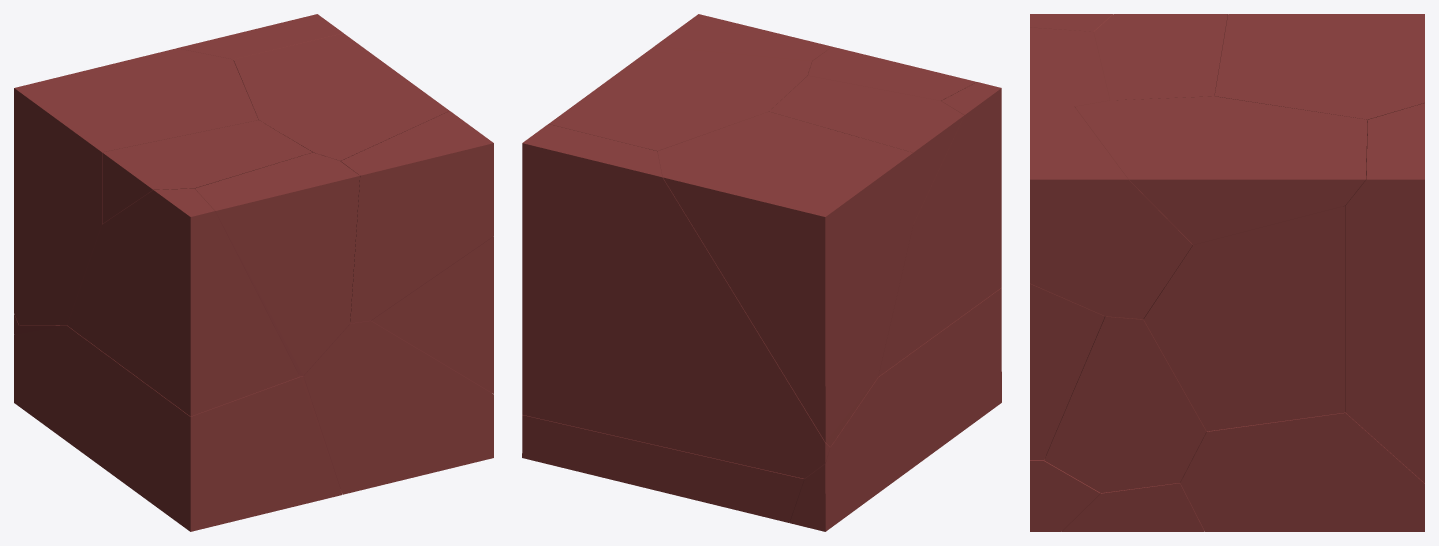
The model's file is cube_broken2.glb.
The picture shows the model from 3 angles, left to right: view 1: azimuth 30°, elevation 25°; view 2: azimuth 150°, elevation 25°; view 3: azimuth 270°, elevation 25°; orthographic projection. The views are drawn at different scales.
Parts seen in each view (by area): view 1: Cube_Bricks_cell.010, Cube_Bricks_cell.004, Cube_Bricks_cell.012, Cube_Bricks_cell.009, Cube_Bricks_cell, Cube_Bricks_cell.007, Cube_Bricks_cell.002, Cube_Bricks_cell.006, Cube_Bricks_cell.011, Cube_Bricks_cell.013; view 2: Cube_Bricks_cell.013, Cube_Bricks_cell.012, Cube_Bricks_cell.010, Cube_Bricks_cell.004, Cube_Bricks_cell.002, Cube_Bricks_cell.003, Cube_Bricks_cell.006, Cube_Bricks_cell, Cube_Bricks_cell.007; view 3: Cube_Bricks_cell.001, Cube_Bricks_cell.002, Cube_Bricks_cell.013, Cube_Bricks_cell.003, Cube_Bricks_cell.007, Cube_Bricks_cell.012, Cube_Bricks_cell.005, Cube_Bricks_cell.006, Cube_Bricks_cell.011, Cube_Bricks_cell, Cube_Bricks_cell.008, Cube_Bricks_cell.009 (+1 smaller).
Boxes of the visible parts, bbox=[...] form: Cube_Bricks_cell.010: bbox=[14, 325, 342, 531]; Cube_Bricks_cell.004: bbox=[67, 188, 299, 416]; Cube_Bricks_cell.012: bbox=[14, 48, 258, 325]; Cube_Bricks_cell.009: bbox=[303, 320, 493, 494]; Cube_Bricks_cell: bbox=[195, 152, 359, 376]; Cube_Bricks_cell.007: bbox=[340, 111, 493, 323]; Cube_Bricks_cell.002: bbox=[233, 33, 449, 160]; Cube_Bricks_cell.006: bbox=[102, 120, 312, 223]; Cube_Bricks_cell.011: bbox=[371, 236, 493, 393]; Cube_Bricks_cell.013: bbox=[14, 14, 343, 333]; Cube_Bricks_cell.013: bbox=[522, 124, 830, 478]; Cube_Bricks_cell.012: bbox=[657, 111, 913, 446]; Cube_Bricks_cell.010: bbox=[789, 288, 1001, 531]; Cube_Bricks_cell.004: bbox=[878, 82, 1001, 376]; Cube_Bricks_cell.002: bbox=[549, 46, 811, 151]; Cube_Bricks_cell.003: bbox=[522, 415, 804, 522]; Cube_Bricks_cell.006: bbox=[769, 75, 964, 223]; Cube_Bricks_cell: bbox=[808, 46, 976, 100]; Cube_Bricks_cell.007: bbox=[655, 14, 831, 74]; Cube_Bricks_cell.001: bbox=[1143, 206, 1345, 431]; Cube_Bricks_cell.002: bbox=[1075, 96, 1367, 244]; Cube_Bricks_cell.013: bbox=[1343, 103, 1424, 482]; Cube_Bricks_cell.003: bbox=[1180, 412, 1424, 531]; Cube_Bricks_cell.007: bbox=[1030, 106, 1192, 319]; Cube_Bricks_cell.012: bbox=[1214, 14, 1424, 119]; Cube_Bricks_cell.005: bbox=[1044, 316, 1206, 492]; Cube_Bricks_cell.006: bbox=[1094, 14, 1227, 100]; Cube_Bricks_cell.011: bbox=[1030, 283, 1104, 460]; Cube_Bricks_cell: bbox=[1030, 27, 1109, 107]; Cube_Bricks_cell.008: bbox=[1061, 483, 1204, 531]; Cube_Bricks_cell.009: bbox=[1030, 459, 1100, 531].
Size of the model in its own units: 2.15 by 2.13 by 2.16.
